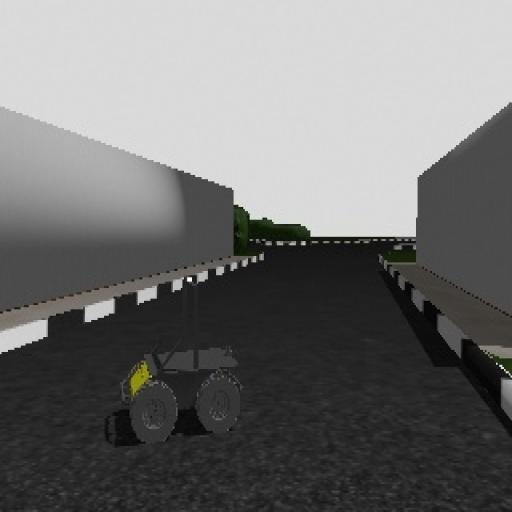huskya200: (104, 262, 253, 456)
